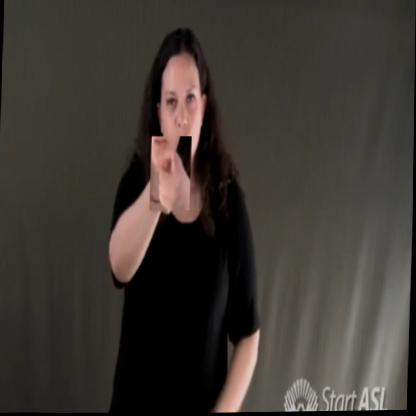HowAreYou: (149, 136, 192, 211)
